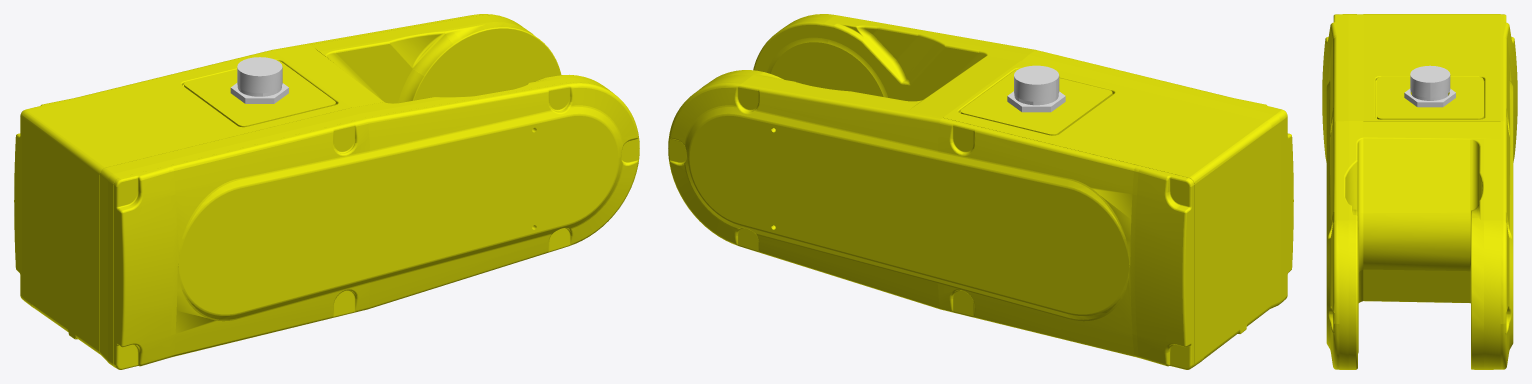
The picture shows the model from 3 angles, left to right: view 1: azimuth 30°, elevation 25°; view 2: azimuth 150°, elevation 25°; view 3: azimuth 270°, elevation 25°; orthographic projection. The views are drawn at different scales.
Parts seen in each view (by area): view 1: Mesh_0.004; view 2: Mesh_0.004; view 3: Mesh_0.004.
Part boxes in pixels (x1=…): Mesh_0.004: x1=14, y1=14, x2=639, y2=369; Mesh_0.004: x1=668, y1=14, x2=1293, y2=369; Mesh_0.004: x1=1322, y1=14, x2=1517, y2=369.
Size of the model in its own units: 0.2913 by 0.1047 by 0.1139.
